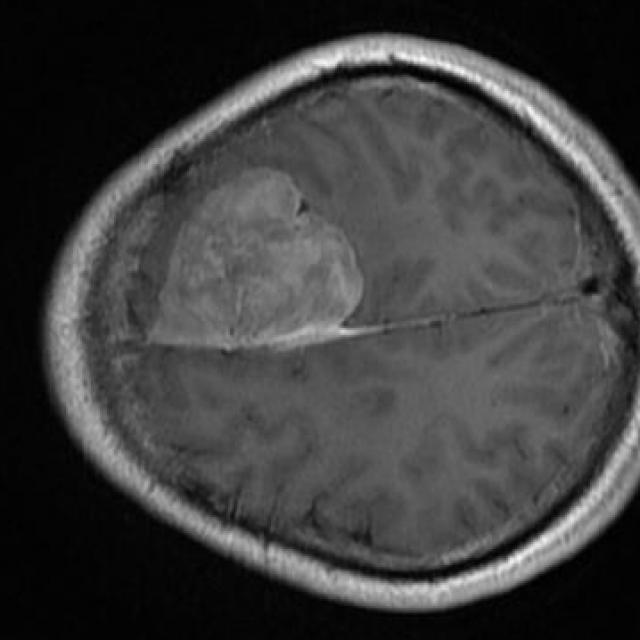meningioma: (150, 168, 365, 346)
